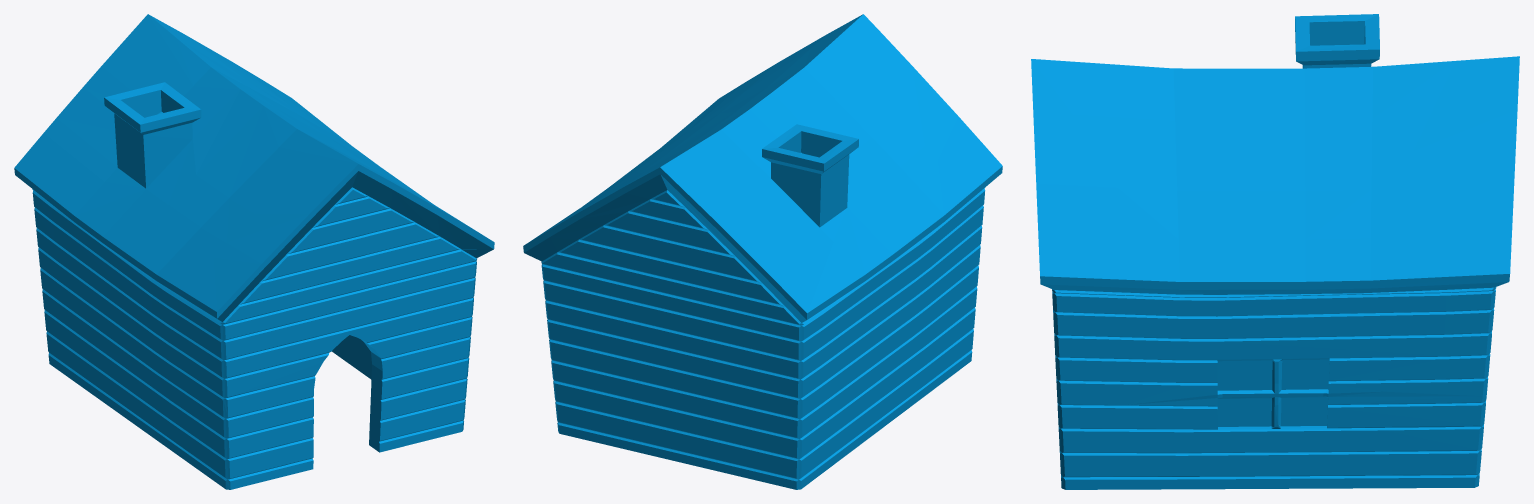
File: DogHouse.glb
The picture shows the model from 3 angles, left to right: view 1: azimuth 30°, elevation 25°; view 2: azimuth 150°, elevation 25°; view 3: azimuth 270°, elevation 25°; orthographic projection. The views are drawn at different scales.
Size of the model in its own units: 0.1924 by 0.1979 by 0.2421.
